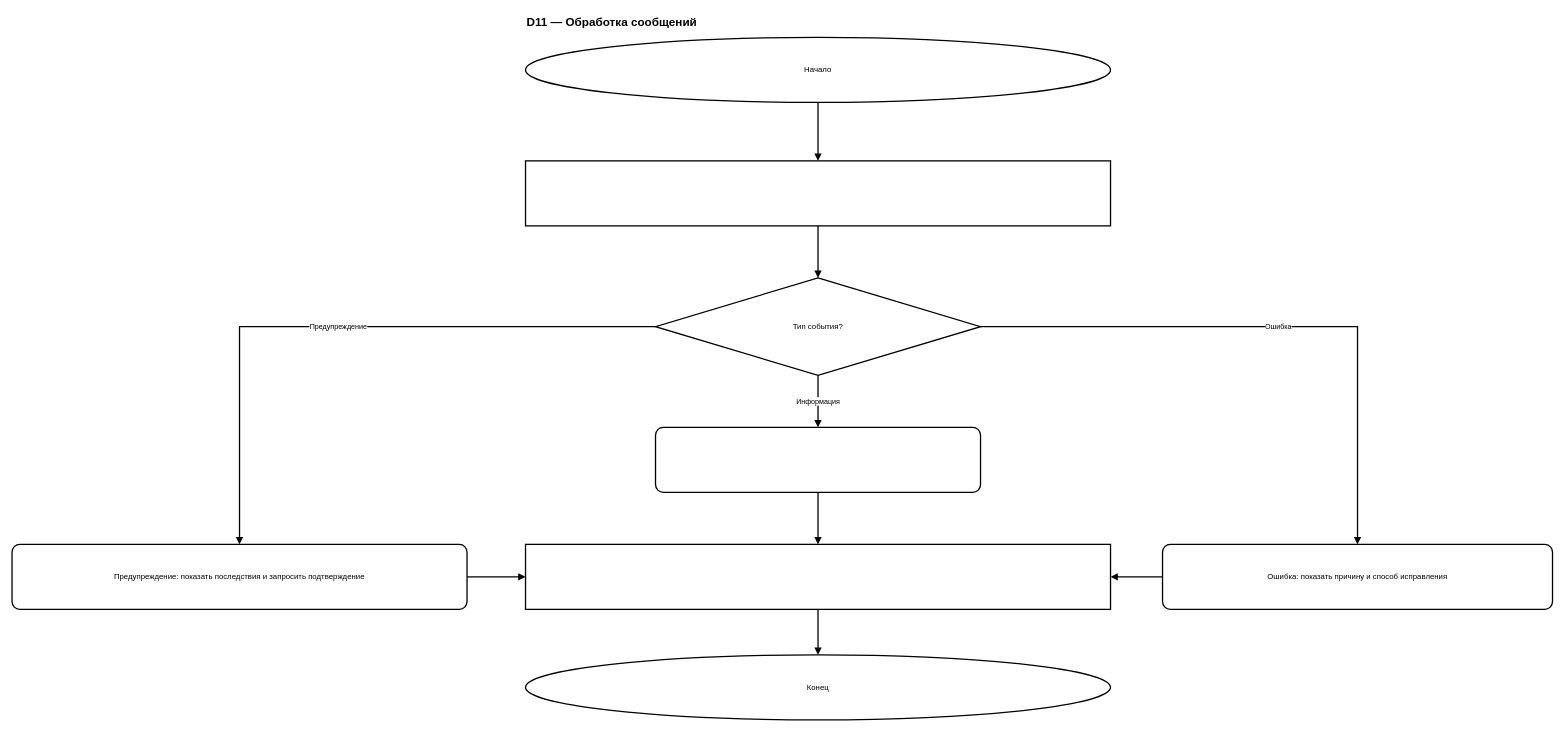
Image size: 1564x731. Some labels were removed from this diagram. The centre of each missing label's shape, as x and y in pixels:
Вернуться к форме / каталогу: point (818, 576)
Информация: показать результат: point (818, 459)
Событие: point (818, 193)
